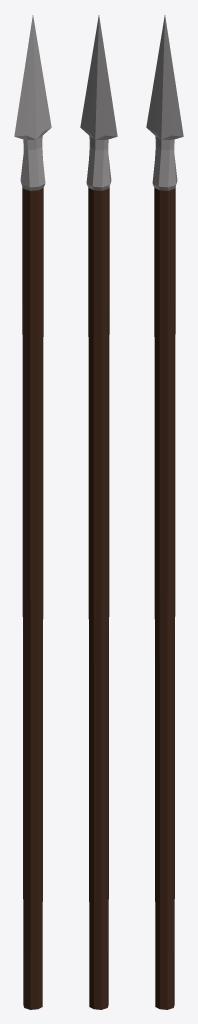
File: SpearSpikeLong.fbx
The picture shows the model from 3 angles, left to right: view 1: azimuth 30°, elevation 25°; view 2: azimuth 150°, elevation 25°; view 3: azimuth 330°, elevation 25°; orthographic projection.
Parts seen in each view (by area): view 1: SpearSpikeLong; view 2: SpearSpikeLong; view 3: SpearSpikeLong.
Boxes of the visible parts, box(x1,y1,x2,y2) form: SpearSpikeLong: box(14, 15, 51, 1009); SpearSpikeLong: box(80, 15, 117, 1009); SpearSpikeLong: box(146, 15, 183, 1009).
Size of the model in its own units: 7.93 by 201 by 4.64.
